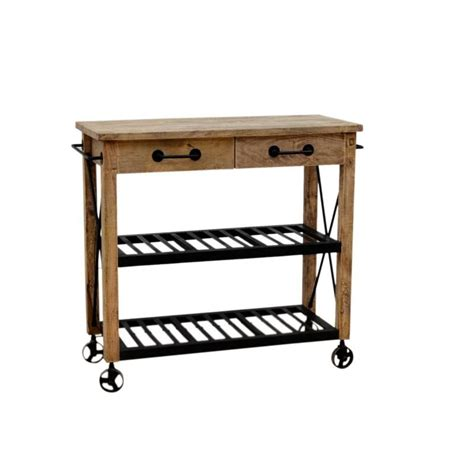Carts: (71, 113, 364, 393)
